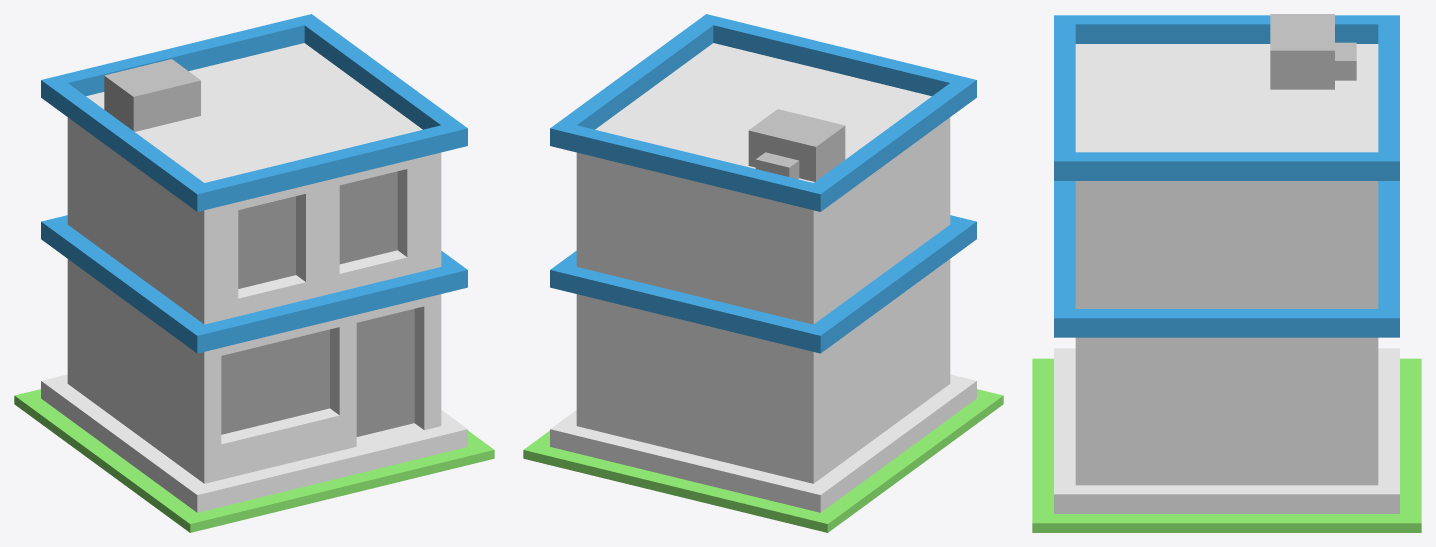
The picture shows the model from 3 angles, left to right: view 1: azimuth 30°, elevation 25°; view 2: azimuth 150°, elevation 25°; view 3: azimuth 270°, elevation 25°; orthographic projection. The views are drawn at different scales.
Parts seen in each view (by area): view 1: ObjObject.011; view 2: ObjObject.011; view 3: ObjObject.011.
Part boxes in pixels (left/top/right/bottom): ObjObject.011: left=14, top=14, right=494, bottom=532; ObjObject.011: left=523, top=14, right=1003, bottom=532; ObjObject.011: left=1032, top=14, right=1421, bottom=532.
Size of the model in its own units: 2 by 2 by 2.17.
